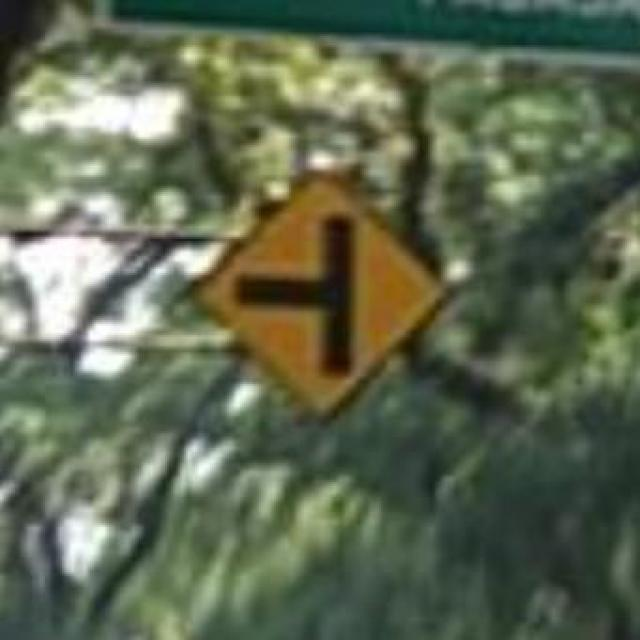traffic sign: (203, 177, 449, 412)
